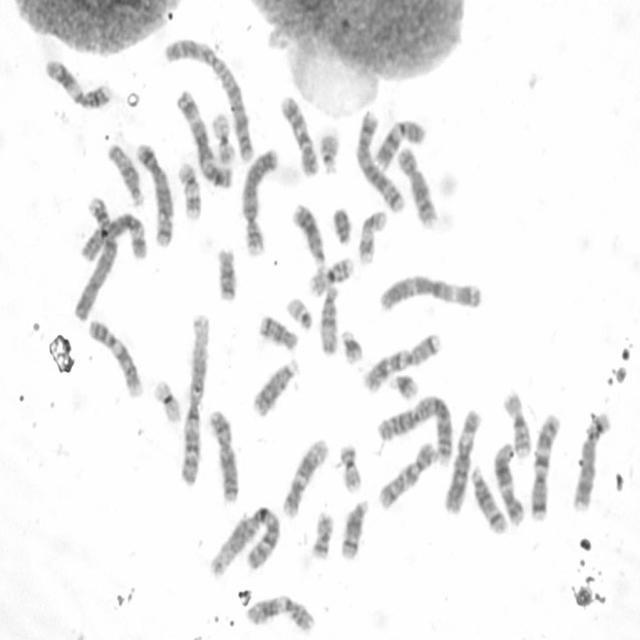A1: (178, 310, 210, 487), (209, 504, 281, 581)
A2: (162, 34, 255, 162), (376, 394, 456, 466)
A3: (176, 90, 234, 190), (375, 274, 484, 314)
B4: (73, 197, 119, 323), (241, 149, 281, 258)
B5: (354, 110, 406, 212), (135, 142, 175, 248)
C10: (376, 440, 438, 512), (278, 94, 319, 179)
C11: (45, 59, 113, 111), (244, 594, 315, 634)
C12: (281, 437, 331, 521), (492, 441, 525, 527)
C6: (444, 410, 482, 516), (78, 211, 148, 265)
C7: (363, 332, 442, 396), (530, 413, 561, 524)
C8: (573, 410, 610, 513), (397, 145, 440, 229)
C9: (88, 319, 144, 399), (373, 119, 427, 170)
D13: (250, 358, 301, 418), (291, 203, 326, 274)
D14: (471, 466, 508, 535), (340, 496, 370, 562)
D15: (107, 144, 144, 206), (317, 284, 339, 356)
E16: (500, 388, 532, 458), (309, 255, 354, 298)
E17: (356, 208, 388, 267), (177, 160, 204, 222)
E18: (257, 314, 300, 352), (216, 247, 240, 302)
F19: (153, 379, 182, 426), (212, 111, 236, 165)
F20: (338, 443, 363, 492), (311, 509, 333, 560)
G21: (388, 371, 420, 401), (340, 329, 365, 367)
G22: (320, 125, 343, 178), (287, 294, 313, 329)
X: (208, 404, 242, 504)
Y: (332, 205, 353, 246)
